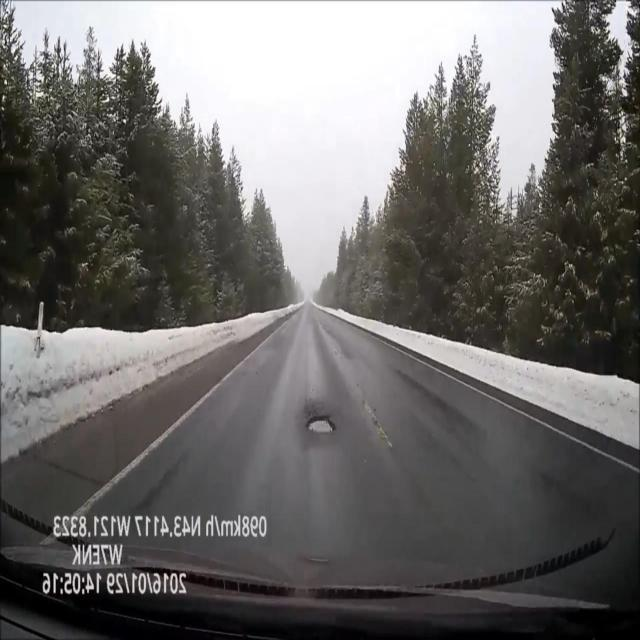Pothole: (306, 415, 336, 433)
